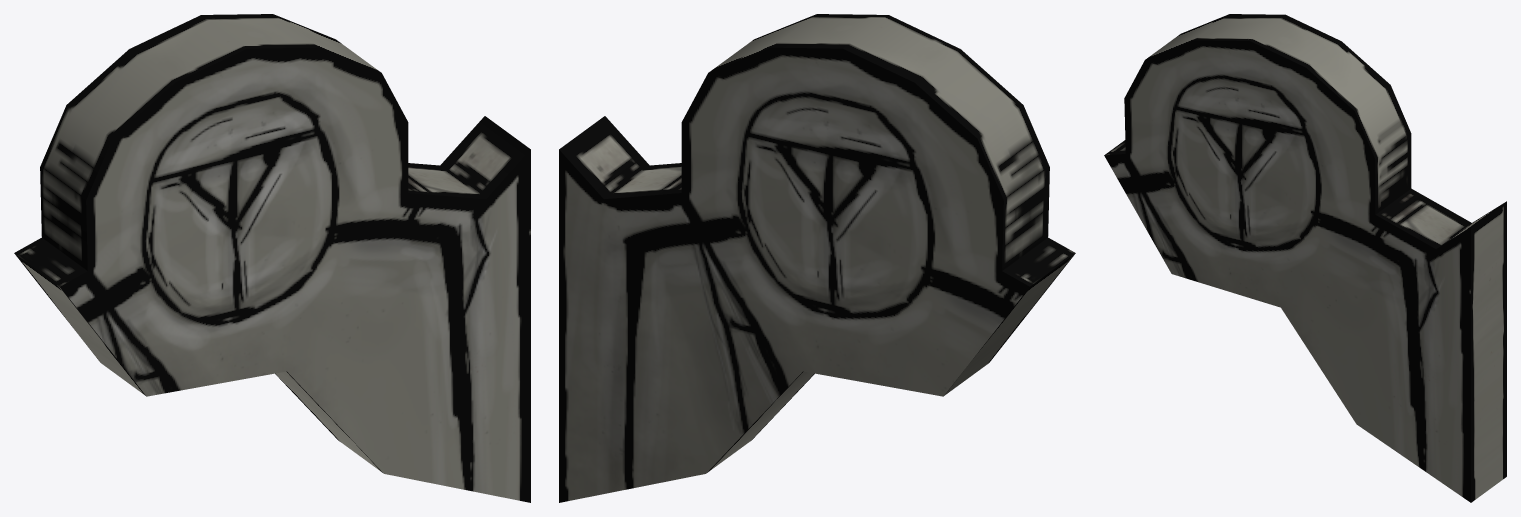
The model's file is tombstone3_gib2.fbx.
3 renders of one model, left to right at view 1: azimuth 30°, elevation 25°; view 2: azimuth 150°, elevation 25°; view 3: azimuth 330°, elevation 25°, orthographic. The views are drawn at different scales.
Parts seen in each view (by area): view 1: tombstone3_gib2; view 2: tombstone3_gib2; view 3: tombstone3_gib2.
Boxes of the visible parts, box(x1,y1,x2,y2) form: tombstone3_gib2: box(14, 14, 530, 502); tombstone3_gib2: box(559, 14, 1075, 502); tombstone3_gib2: box(1104, 14, 1506, 502).
Bounding box in the file's own units: 225 × 239 × 38.13.
